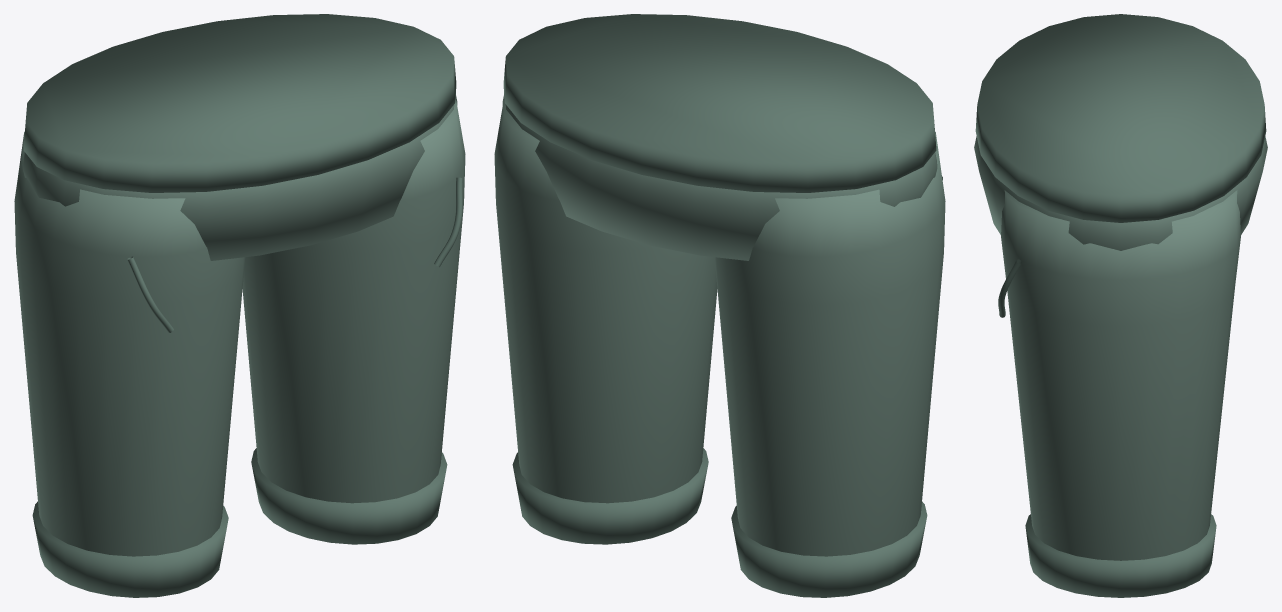
The model's file is trousers.glb.
3 views of the same model, side by side, from view 1: azimuth 30°, elevation 25°; view 2: azimuth 150°, elevation 25°; view 3: azimuth 270°, elevation 25° (orthographic). The views are drawn at different scales.
Visible parts, largest first — view 1: pantLegL, waistband, pantLegR, waist, hemR, hemL, pocketSeamR, pocketSeamL; view 2: pantLegL, waistband, pantLegR, waist, hemR, hemL; view 3: pantLegR, waistband, hemR, waist, pocketSeamR.
Boxes of the visible parts, x1,y1,x2,y2 form: pantLegL: (14,131,245,556); waistband: (23,14,456,192); pantLegR: (242,100,465,503); waist: (22,94,457,260); hemR: (251,448,447,544); hemL: (32,501,228,597); pocketSeamR: (434,177,462,266); pocketSeamL: (127,256,173,332); pantLegL: (714,131,945,556); waistband: (503,14,936,192); pantLegR: (494,100,717,503); waist: (502,94,937,260); hemR: (512,448,708,544); hemL: (731,501,927,597); pantLegR: (1001,190,1240,560); waistband: (975,14,1266,222); hemR: (1025,514,1216,597); waist: (974,136,1267,250); pocketSeamR: (998,259,1021,317).
Size of the model in its own units: 0.558 by 0.572 by 0.372.
